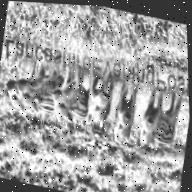boar: (131, 80, 186, 160), (80, 51, 121, 129), (50, 62, 95, 129), (14, 60, 66, 115), (108, 84, 143, 149), (0, 79, 23, 118)
